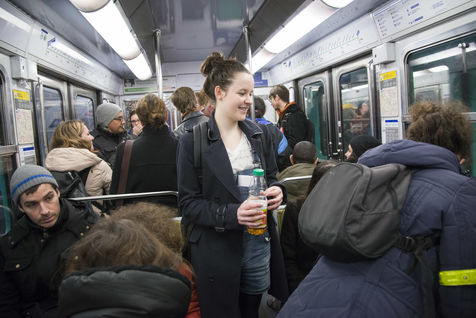without_mask: (227, 76, 258, 123), (22, 189, 60, 227), (109, 111, 126, 135), (267, 93, 283, 112)
